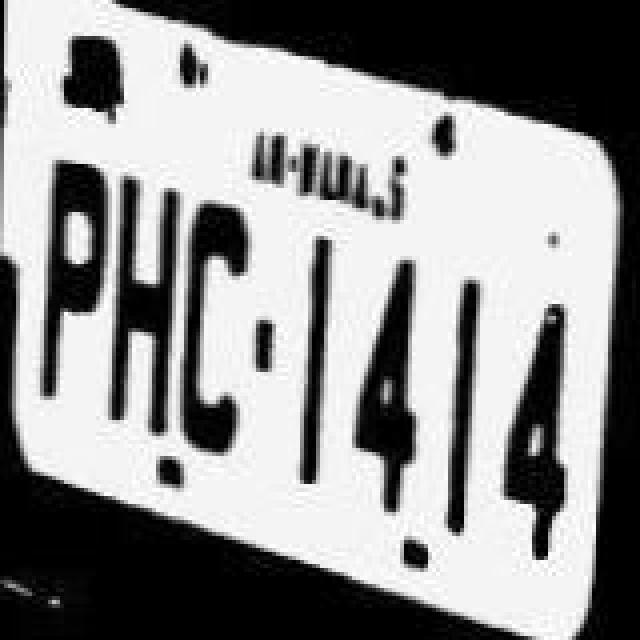1: (288, 230, 348, 522), (440, 248, 496, 540)
4: (500, 288, 588, 568), (354, 246, 438, 518)
C: (178, 200, 258, 468)
H: (104, 158, 180, 450)
P: (34, 132, 106, 436)
